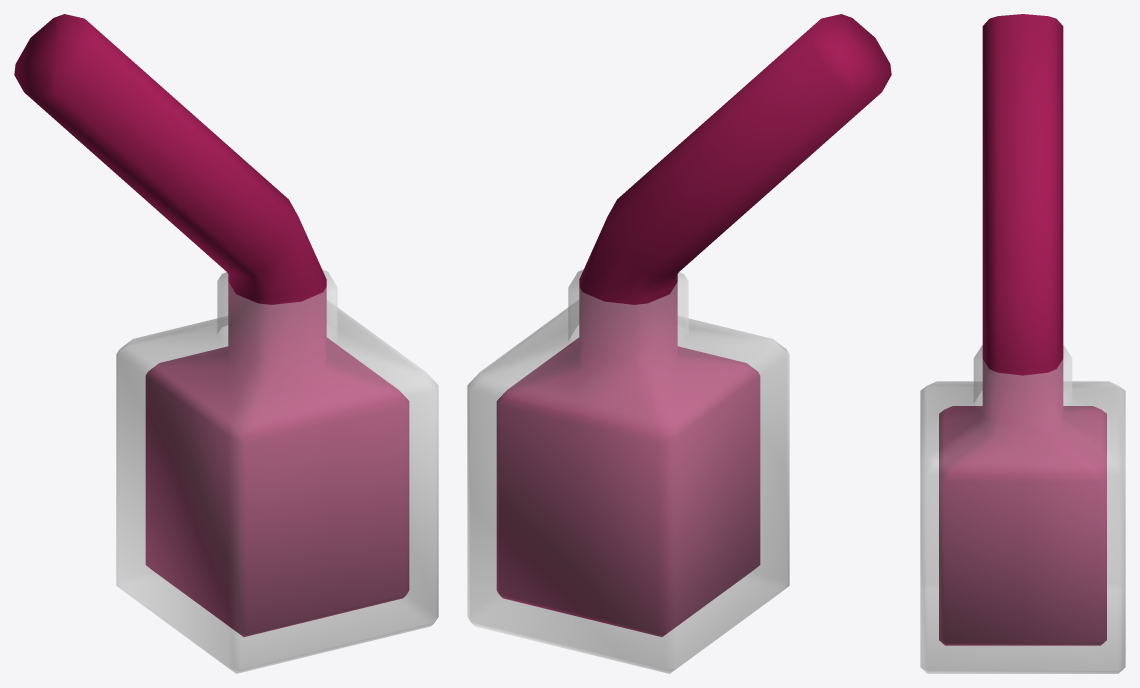
Rendered from SquarePotionOpen.fbx.
3 views of the same model, side by side, from view 1: azimuth 30°, elevation 25°; view 2: azimuth 150°, elevation 25°; view 3: azimuth 270°, elevation 25° (orthographic). The views are drawn at different scales.
Visible parts, largest first — view 1: CubePotionOpen; view 2: CubePotionOpen; view 3: CubePotionOpen.
Boxes of the visible parts, <box> form: CubePotionOpen: <box>14,14,438,673</box>; CubePotionOpen: <box>467,14,891,673</box>; CubePotionOpen: <box>920,14,1125,673</box>.
Size of the model in its own units: 248 by 422 by 146.
